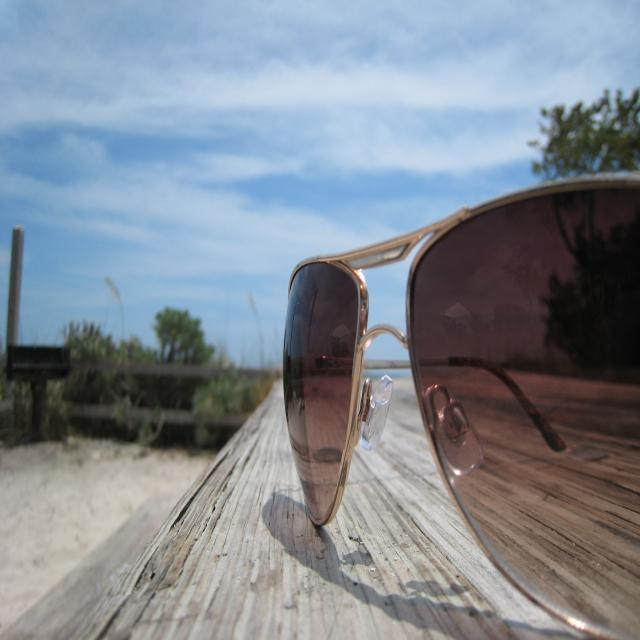glasses: (186, 180, 640, 640)
